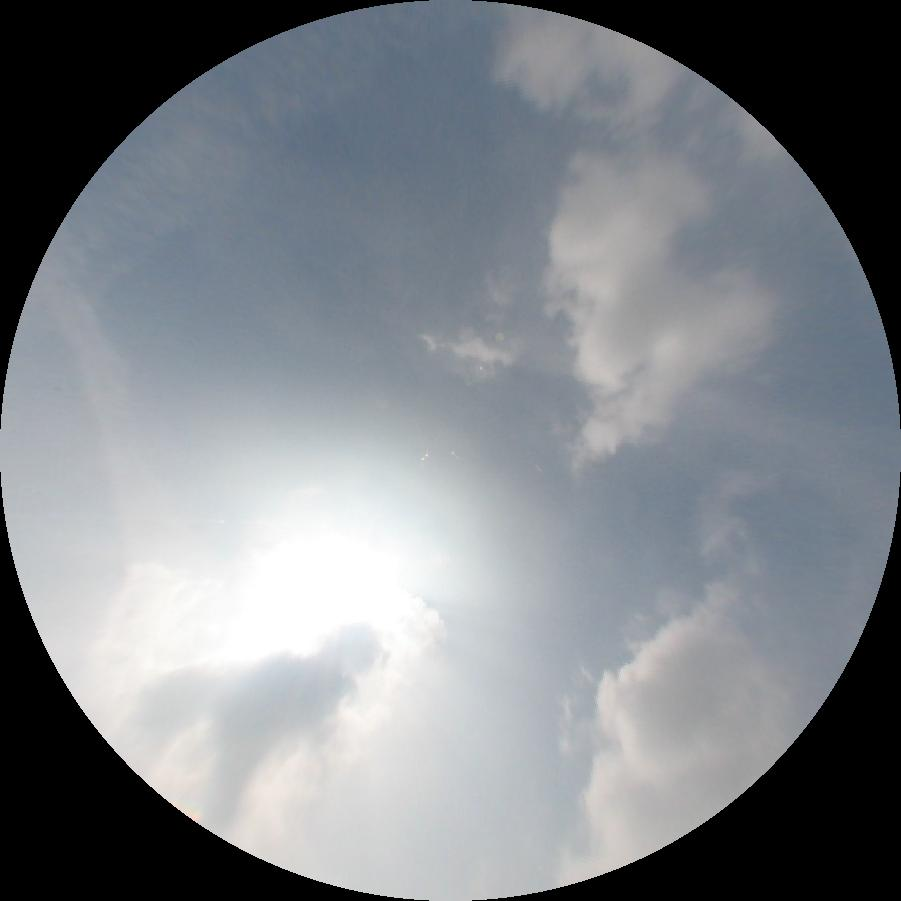sun: (254, 535, 422, 634)
